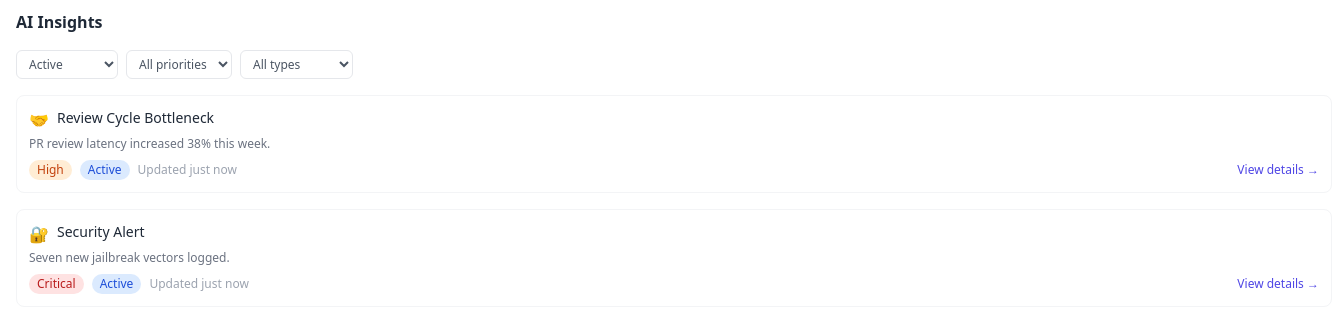
Test case: AIInsightsPanel › filters by priority
This screenshot has width=1334, height=311.
Select "Critical" in the dropdown named "Filter by priority". click: (179, 64)
box: top-left (126, 50), bottom-right (232, 79)
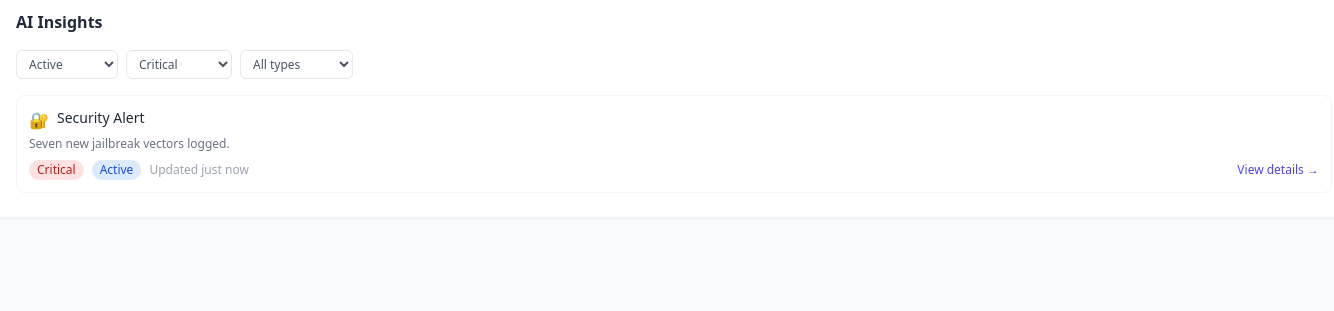
Expected: the link "Security Alert" is shown, top-left (57, 108), bottom-right (144, 127)
Expected: the link "Review Cycle Bottleneck" is gone
